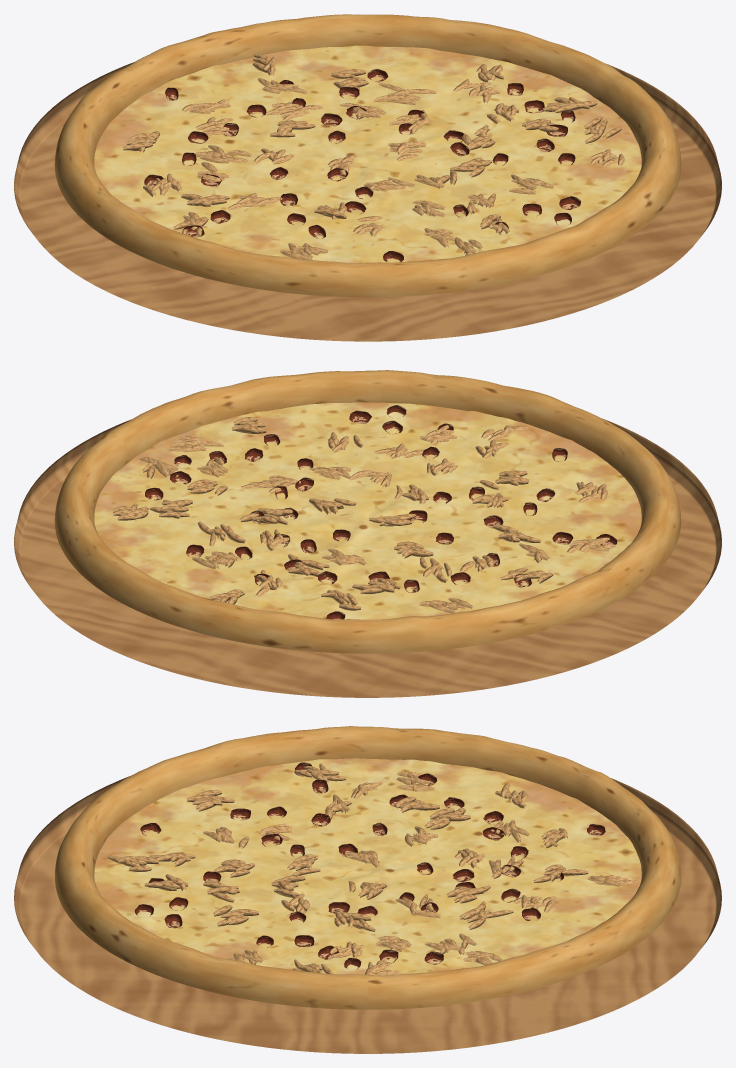
The model's file is pizza-frango-bacon.glb.
3 views of the same model, one above another, from view 1: azimuth 30°, elevation 25°; view 2: azimuth 150°, elevation 25°; view 3: azimuth 270°, elevation 25° (orthographic).
Parts seen in each view (by area): view 1: pizza-frango-bacon; view 2: pizza-frango-bacon; view 3: pizza-frango-bacon.
Part boxes in pixels (x1,y1,x2,y2): pizza-frango-bacon: (14, 14, 721, 341); pizza-frango-bacon: (14, 370, 721, 697); pizza-frango-bacon: (14, 726, 721, 1053).
Bounding box in the file's own units: 0.432 × 0.0398 × 0.432.
Materials: 5 (5 with a texture image).
